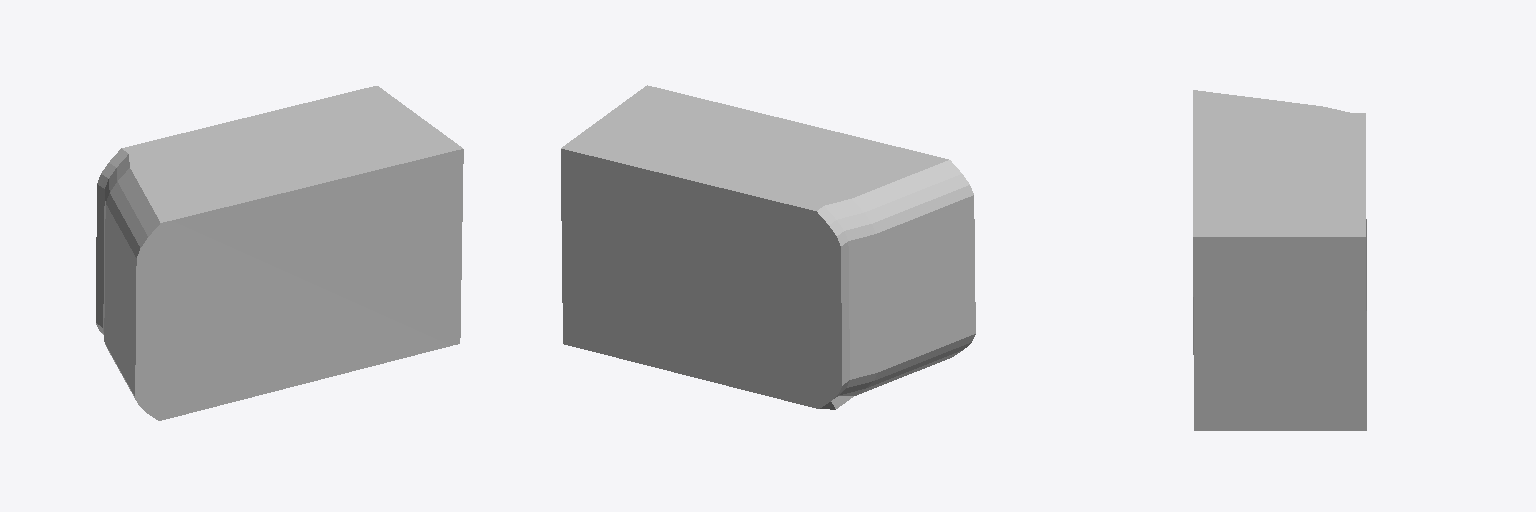
File: hull_r4_phy.obj
3 renders of one model, left to right at view 1: azimuth 30°, elevation 25°; view 2: azimuth 150°, elevation 25°; view 3: azimuth 270°, elevation 25°, orthographic.
Parts seen in each view (by area): view 1: Hull_R4_phy; view 2: Hull_R4_phy; view 3: Hull_R4_phy.
Part boxes in pixels (x1,y1,x2,y2): Hull_R4_phy: (96, 86, 463, 420); Hull_R4_phy: (561, 85, 975, 409); Hull_R4_phy: (1193, 90, 1366, 430).
Bounding box in the file's own units: 0.1653 × 0.0951 × 0.0758.